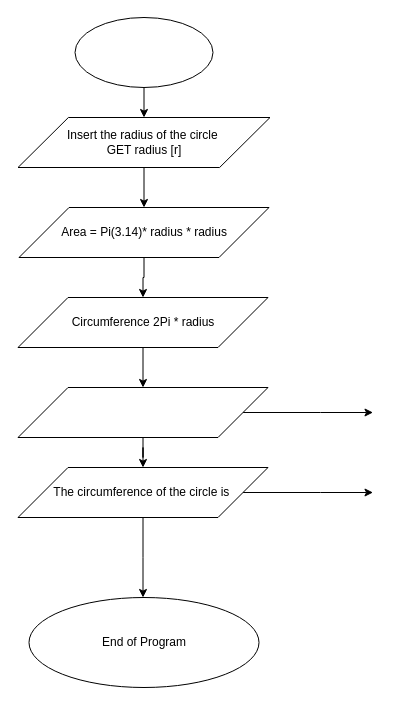
This 398x705 diagram has some shape labels left out. Here are the shapes that lost their labels. From the top down, the centre of each, then its label:
At point 143,52: "Program Start".
At point 142,412: "The area of the circle is".
